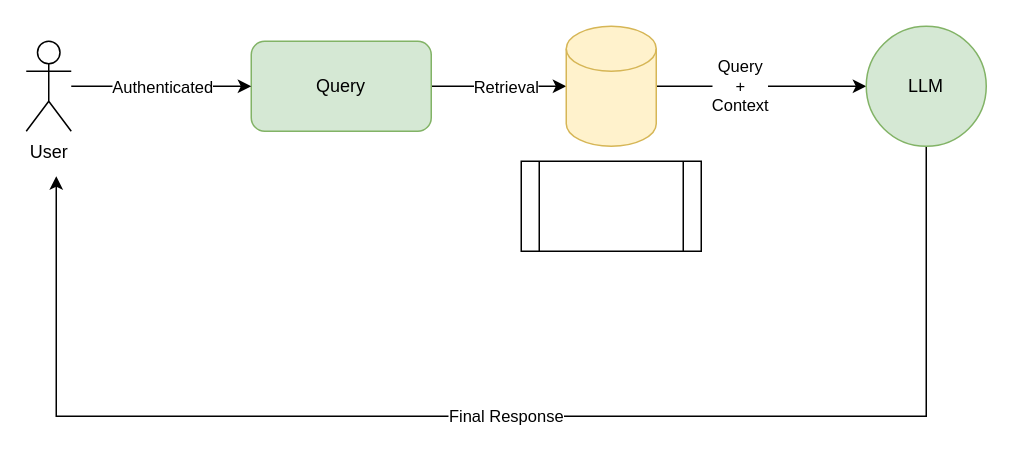
Some shapes in this 1013 by 455 pixel diagram are drawn without their labels. The box of each missing label's shape, as (x1, y1, x2, y2) in pixels:
Filter the context by user role: (520, 160, 701, 251)
RAG: (565, 25, 656, 146)
